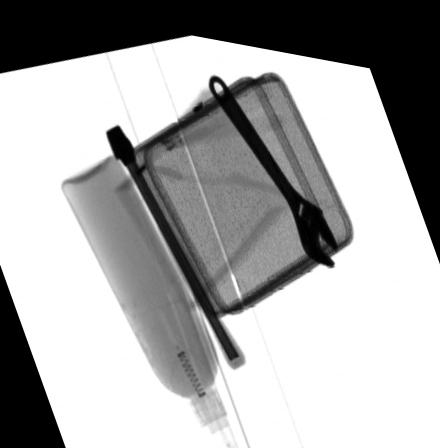Hammer: (104, 121, 244, 362)
Wrench: (208, 67, 336, 253)
